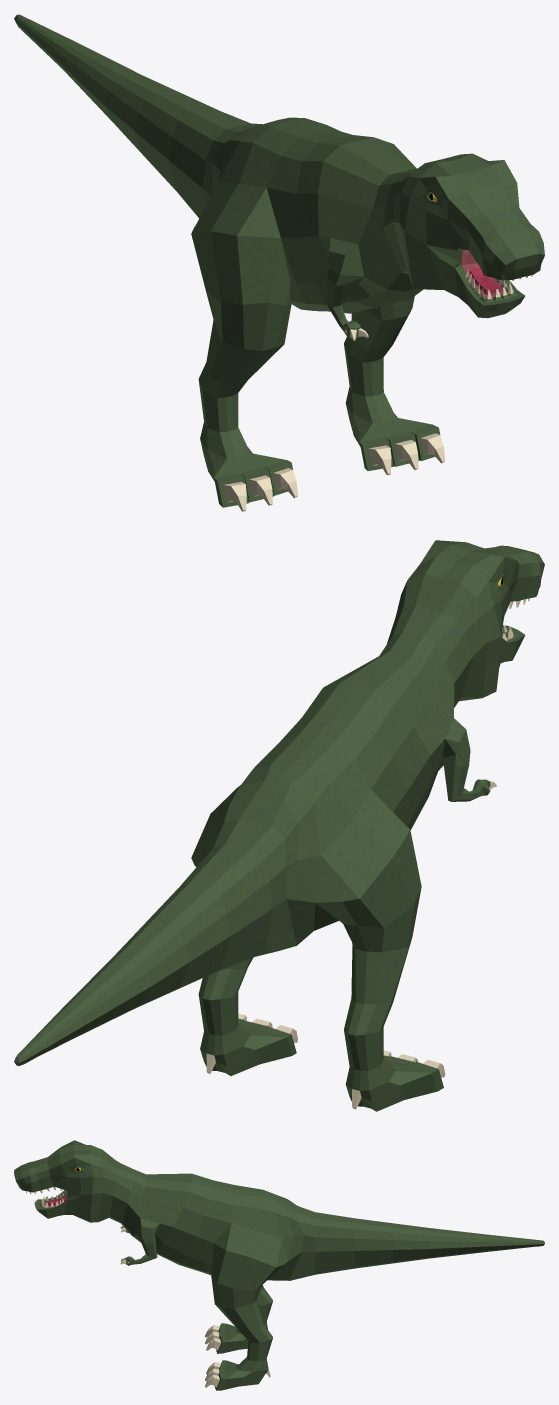
Rendered from T_Rex.obj.
3 views of the same model, one above another, from view 1: azimuth 30°, elevation 25°; view 2: azimuth 150°, elevation 25°; view 3: azimuth 270°, elevation 25° (orthographic). The views are drawn at different scales.
Visible parts, largest first — view 1: T_Rex:Mesh; view 2: T_Rex:Mesh; view 3: T_Rex:Mesh.
Boxes of the visible parts, left/top/right/bottom form: T_Rex:Mesh: left=14, top=14, right=544, bottom=511; T_Rex:Mesh: left=14, top=540, right=544, bottom=1111; T_Rex:Mesh: left=14, top=1140, right=544, bottom=1390.
Size of the model in its own units: 4.25 by 7.58 by 17.04.
Materials: 1 (1 with a texture image).
